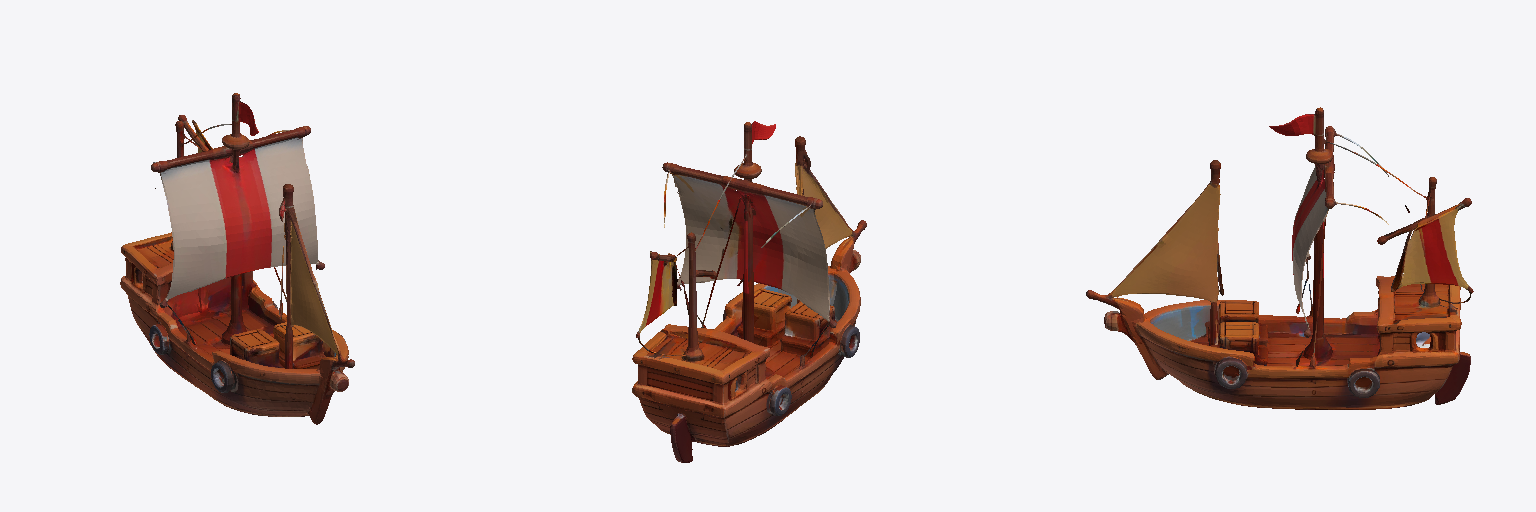
3 renders of one model, left to right at view 1: azimuth 30°, elevation 25°; view 2: azimuth 150°, elevation 25°; view 3: azimuth 270°, elevation 25°, orthographic.
Visible parts, largest first — view 1: tripo_node_00c12b2b-ad6b-4cfc-b66b-136bff2b909e; view 2: tripo_node_00c12b2b-ad6b-4cfc-b66b-136bff2b909e; view 3: tripo_node_00c12b2b-ad6b-4cfc-b66b-136bff2b909e.
Boxes of the visible parts, box(x1,y1,x2,y2) form: tripo_node_00c12b2b-ad6b-4cfc-b66b-136bff2b909e: box(120, 93, 354, 424); tripo_node_00c12b2b-ad6b-4cfc-b66b-136bff2b909e: box(632, 121, 866, 462); tripo_node_00c12b2b-ad6b-4cfc-b66b-136bff2b909e: box(1086, 107, 1473, 409).
Size of the model in its own units: 0.4888 by 0.8419 by 0.9984.
Materials: 1 (1 with a texture image).